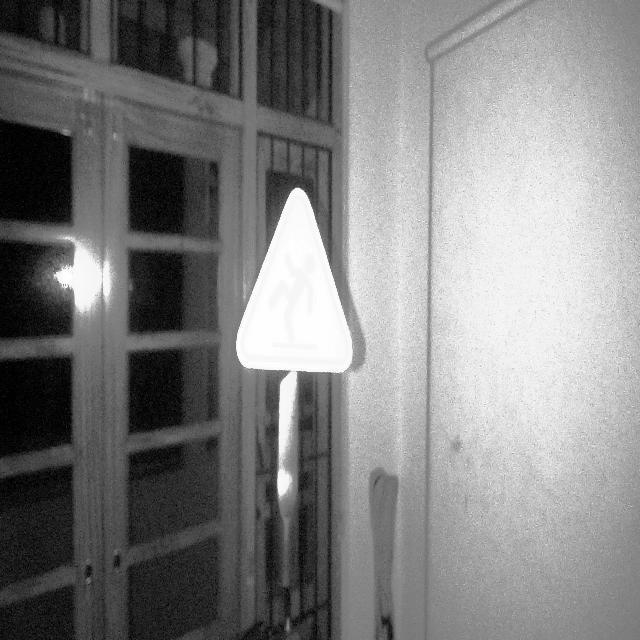Sign: (235, 185, 353, 375)
